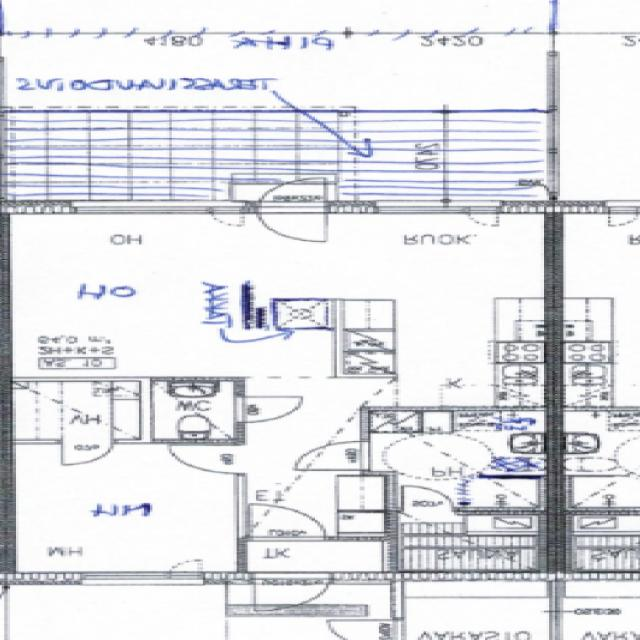door: (250, 572, 333, 615), (252, 202, 328, 246), (252, 170, 328, 213), (252, 506, 324, 542), (293, 442, 370, 470), (174, 447, 248, 475), (240, 397, 308, 423), (322, 619, 403, 640), (402, 486, 456, 512), (63, 441, 111, 465)
